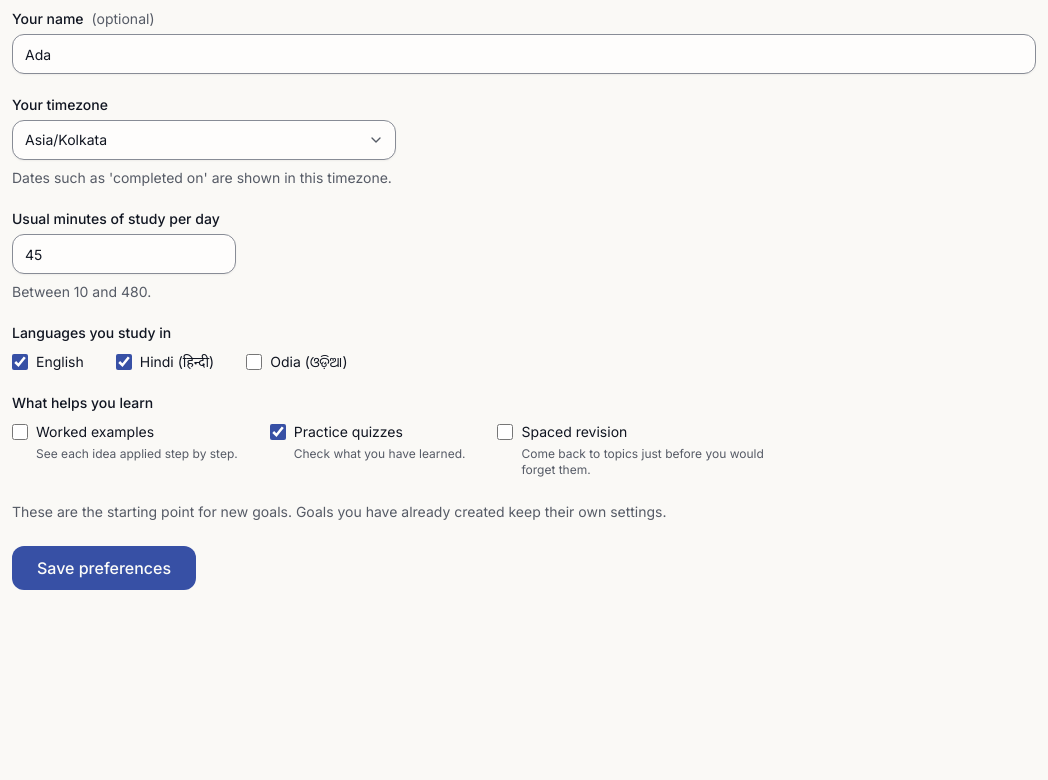
Test: SettingsForm › confirms the save and shows the saved values, not the old ones
Replace the text in the number field labelled "Usual minutes of study per day" with "90" at (124, 254), box [12,234,236,274]
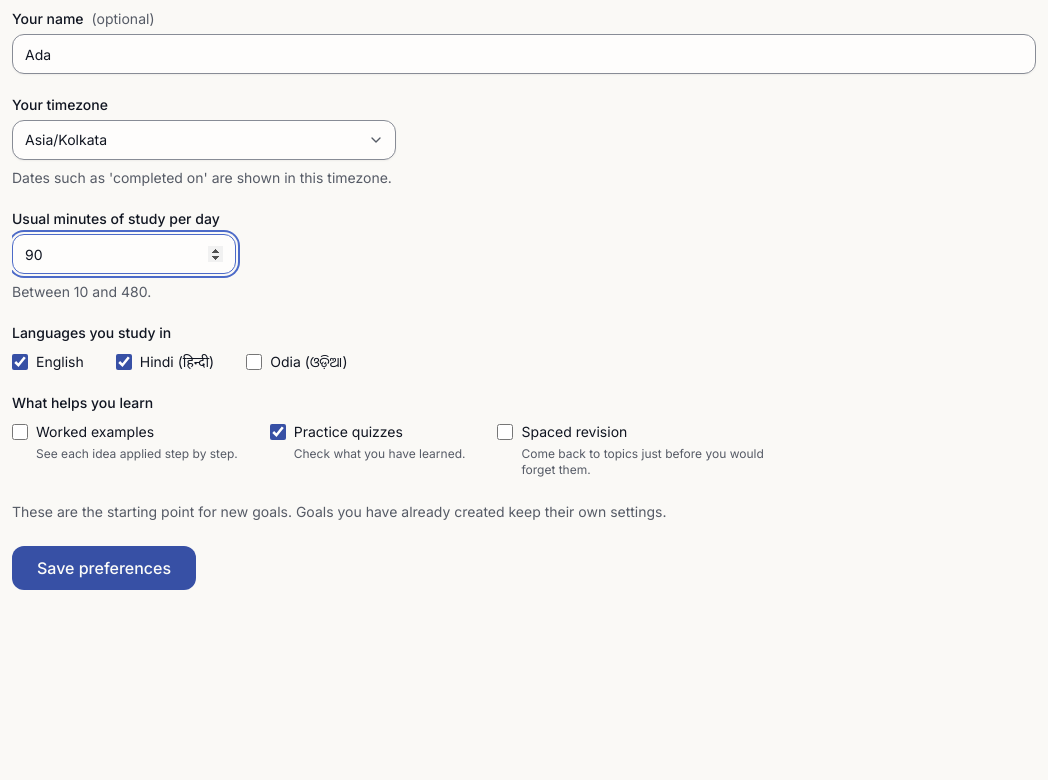
Click the button "Save preferences".
click(104, 568)  # box [12,546,196,590]
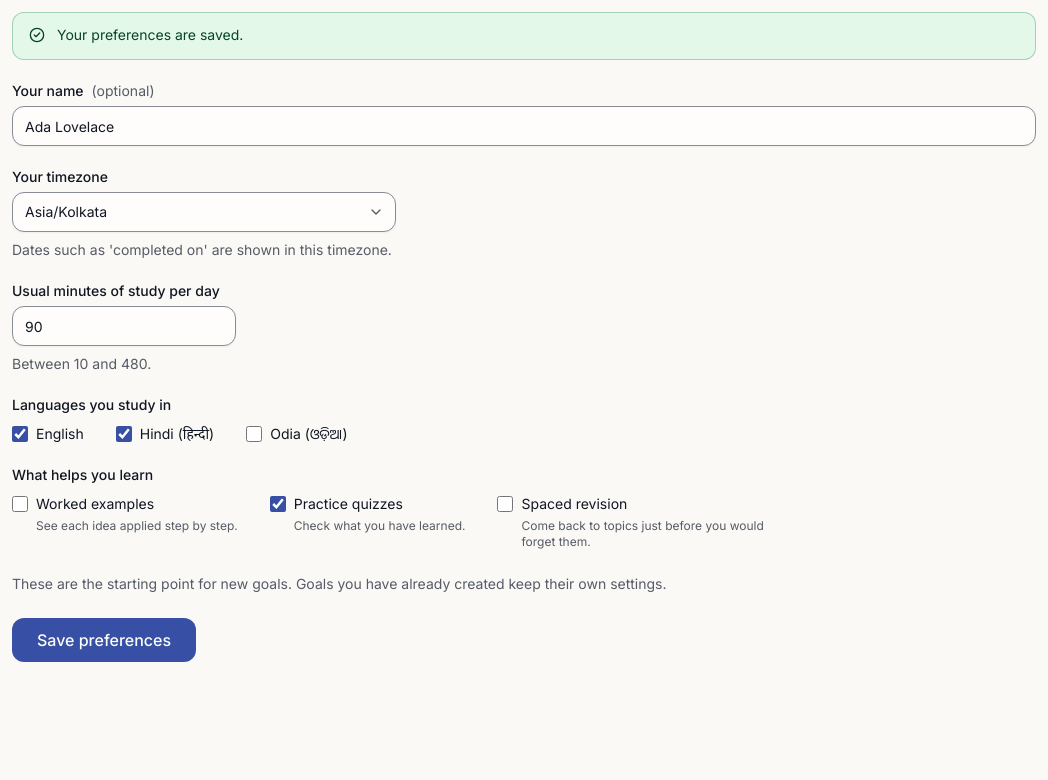
expect the text "Your preferences are saved." is shown: met, box [57,26,243,43]
expect the field labelled "Your name (optional)" holds "Ada Lovelace": met, box [12,106,1036,146]
